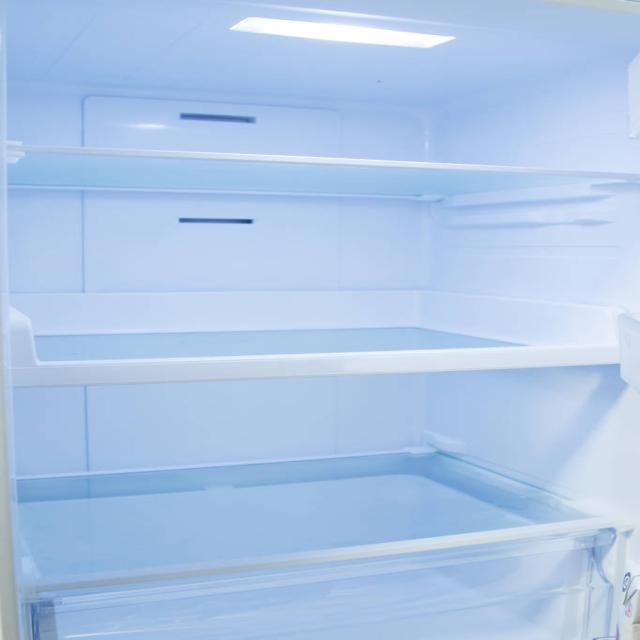fridge-space: (4, 269, 616, 355), (5, 84, 588, 160), (264, 439, 586, 550), (12, 466, 252, 578)
